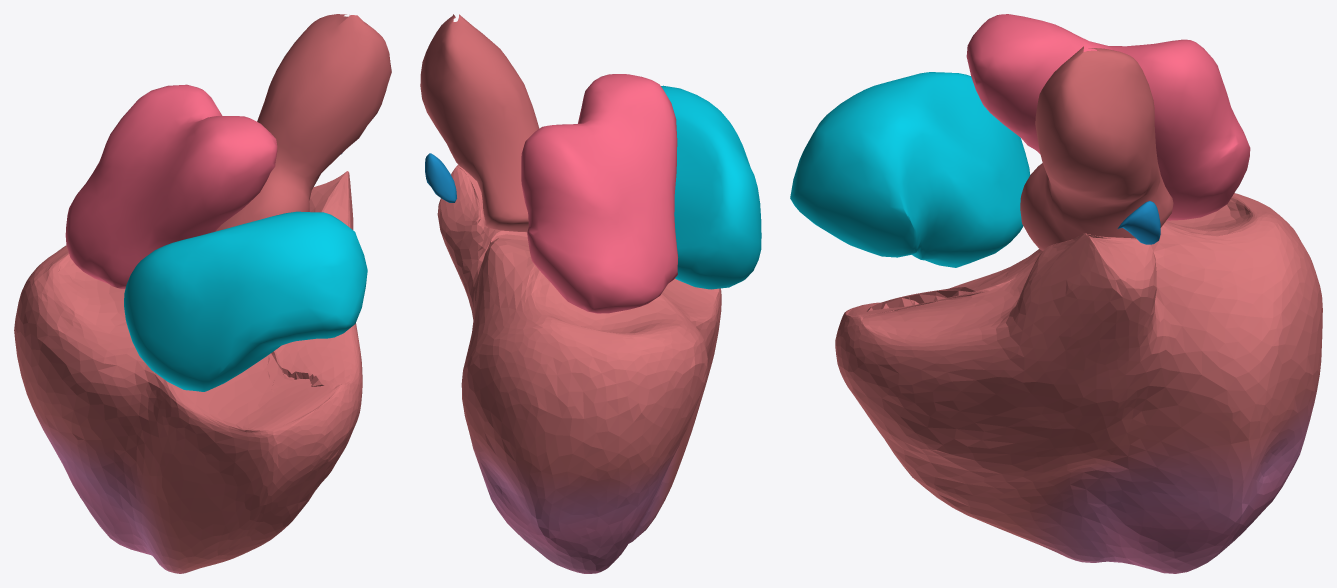
The model's file is frame_30.glb.
The picture shows the model from 3 angles, left to right: view 1: azimuth 30°, elevation 25°; view 2: azimuth 150°, elevation 25°; view 3: azimuth 270°, elevation 25°; orthographic projection. The views are drawn at different scales.
Parts seen in each view (by area): view 1: Renderer Node; view 2: Renderer Node; view 3: Renderer Node.
Boxes of the visible parts, <box> form: Renderer Node: <box>14,14,391,573</box>; Renderer Node: <box>420,14,761,573</box>; Renderer Node: <box>790,14,1322,573</box>.
Bounding box in the file's own units: 97.53 × 153 × 119.
